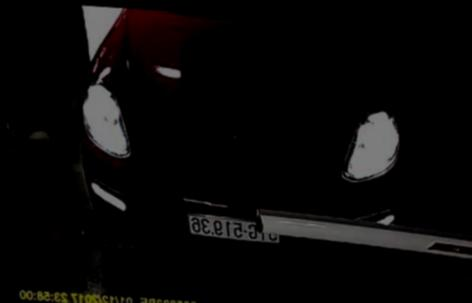License_Plate: (188, 210, 282, 245)
